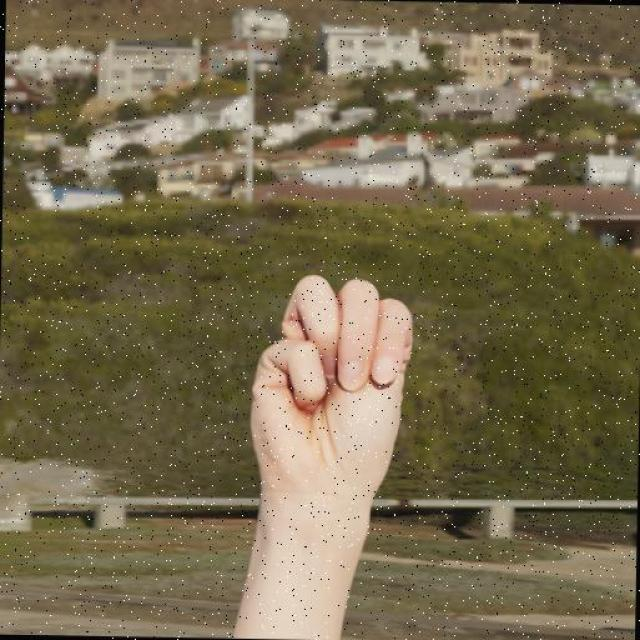M: (236, 268, 418, 551)
